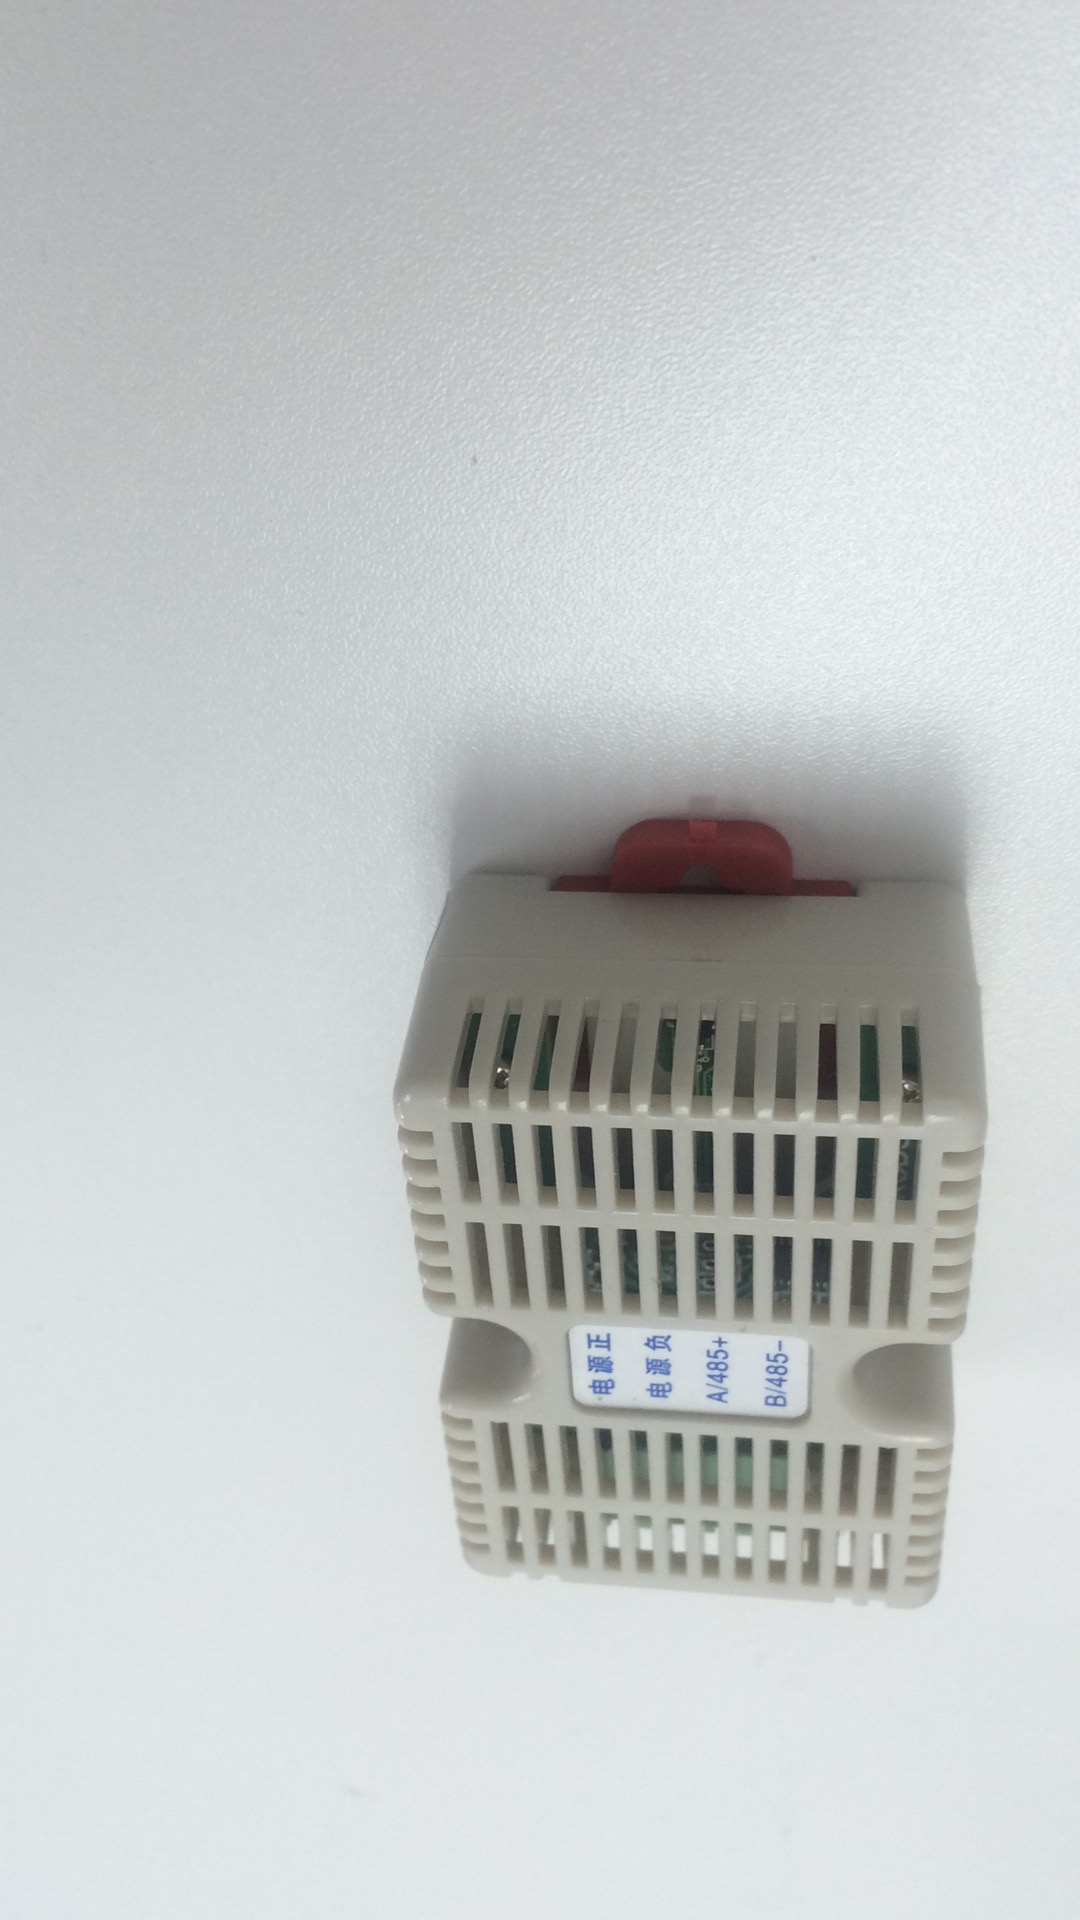temperature: (382, 806, 1007, 1629)
